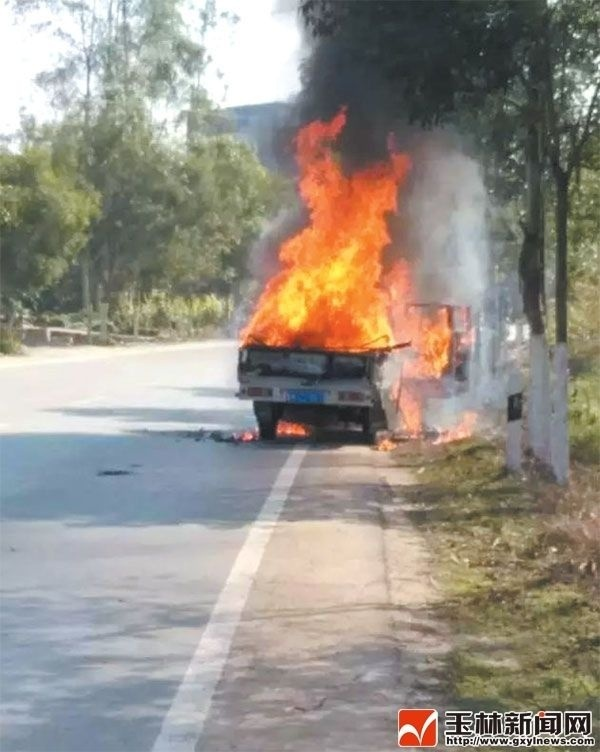fire: (234, 92, 470, 455)
